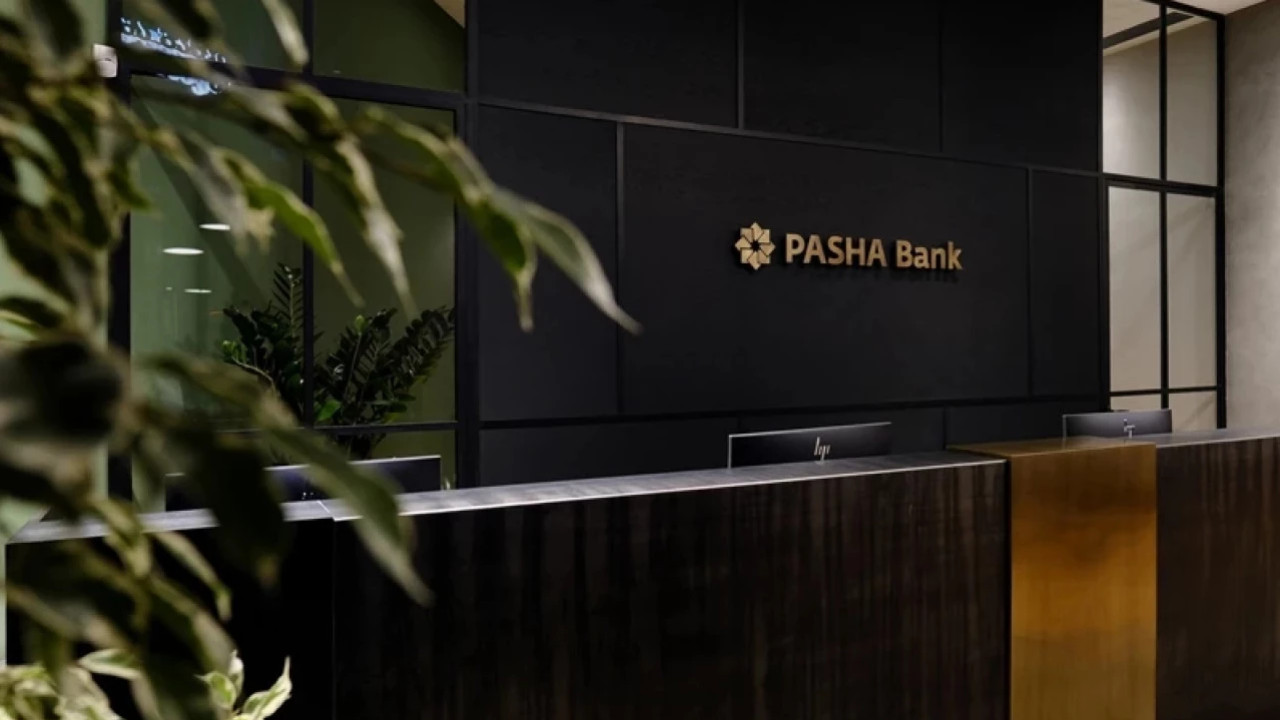Pasha Bank: (733, 221, 778, 271)
